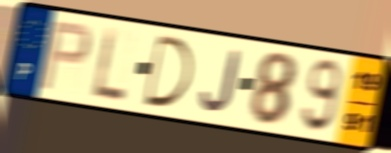8: (248, 49, 301, 128)
9: (300, 56, 345, 136)
D: (142, 32, 195, 110)
J: (198, 48, 243, 115)
L: (91, 24, 128, 103)
P: (37, 19, 94, 93)
